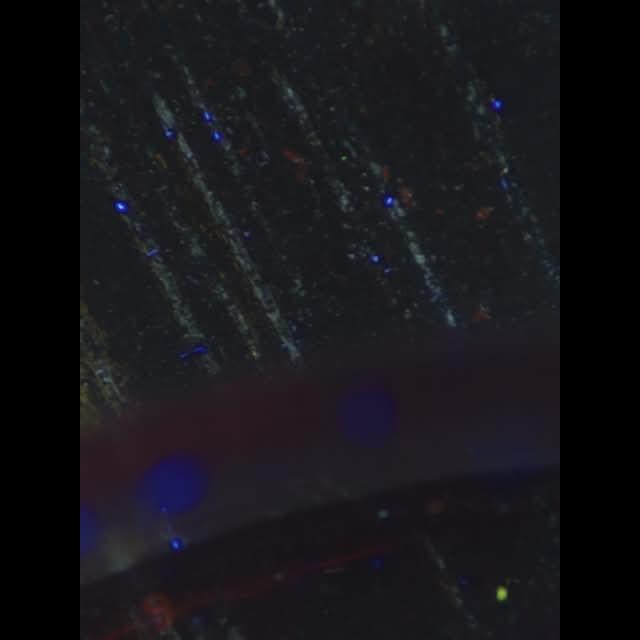microbeads: (494, 584, 510, 602)
